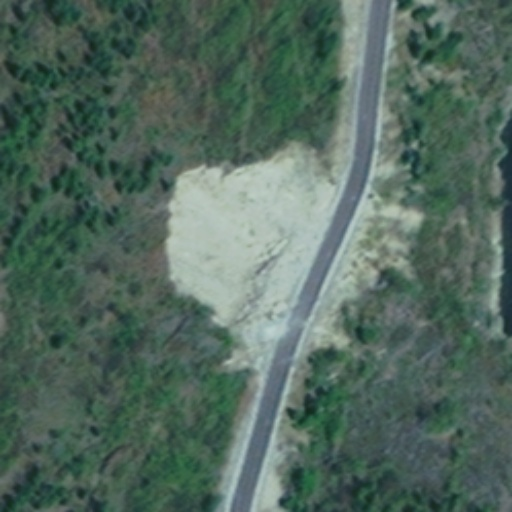landslide: (161, 139, 329, 365)
